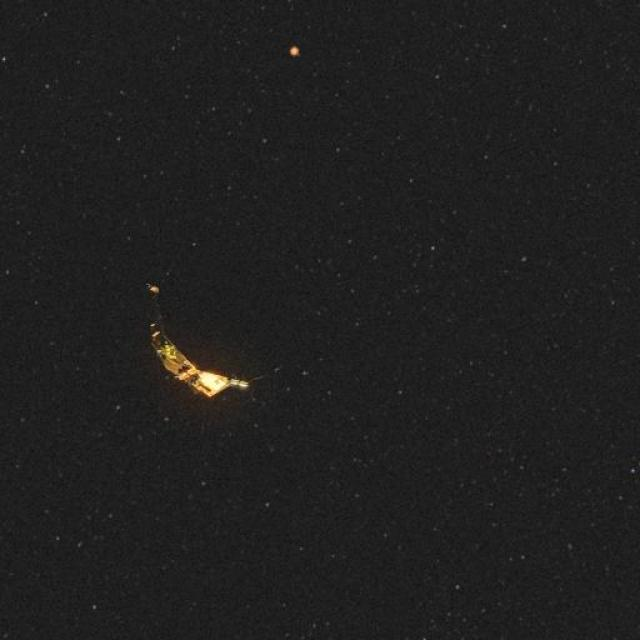lisa_pathfinder: (110, 225, 374, 431)
